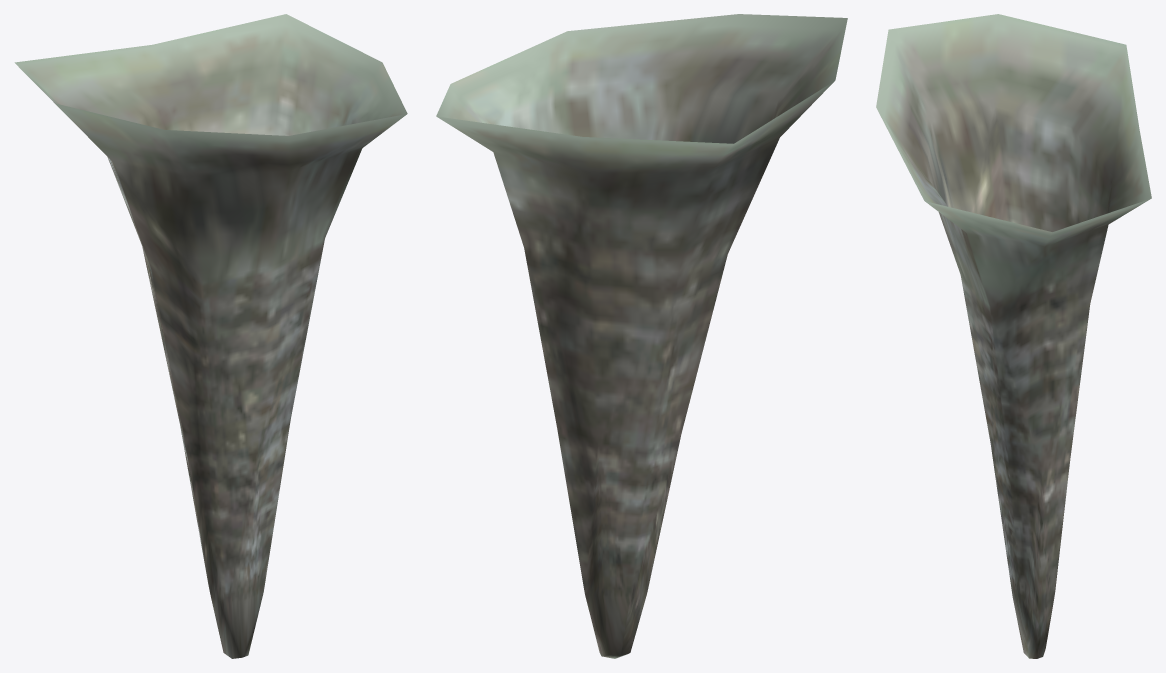
File: TROLLHOLE02_PS-UPPERSTALAG22.fbx
3 renders of one model, left to right at view 1: azimuth 30°, elevation 25°; view 2: azimuth 150°, elevation 25°; view 3: azimuth 270°, elevation 25°, orthographic. The views are drawn at different scales.
Visible parts, largest first — view 1: TROLLHOLE02_PS-UPPERSTALAG22; view 2: TROLLHOLE02_PS-UPPERSTALAG22; view 3: TROLLHOLE02_PS-UPPERSTALAG22.
Part boxes in pixels (x1,y1,x2,y2): TROLLHOLE02_PS-UPPERSTALAG22: (14,14,407,658); TROLLHOLE02_PS-UPPERSTALAG22: (436,14,847,658); TROLLHOLE02_PS-UPPERSTALAG22: (876,14,1151,658).
Size of the model in its own units: 14433 by 24051 by 10744.
Materials: 1 (1 with a texture image).
